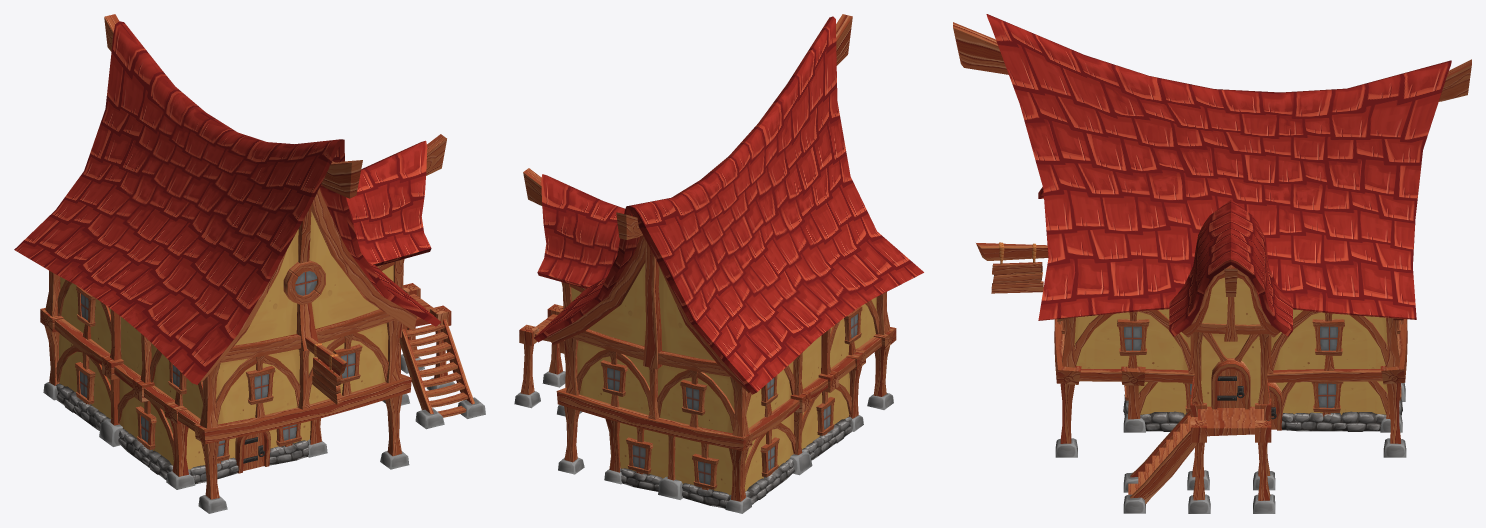
The model's file is tavern2.FBX.
The picture shows the model from 3 angles, left to right: view 1: azimuth 30°, elevation 25°; view 2: azimuth 150°, elevation 25°; view 3: azimuth 270°, elevation 25°; orthographic projection. The views are drawn at different scales.
Parts seen in each view (by area): view 1: roof_large002; view 2: roof_large002; view 3: roof_large002.
Boxes of the visible parts, x1,y1,x2,y2 form: roof_large002: (14,14,485,513); roof_large002: (514,14,923,513); roof_large002: (953,14,1471,513).
Size of the model in its own units: 708 by 738 by 884.
